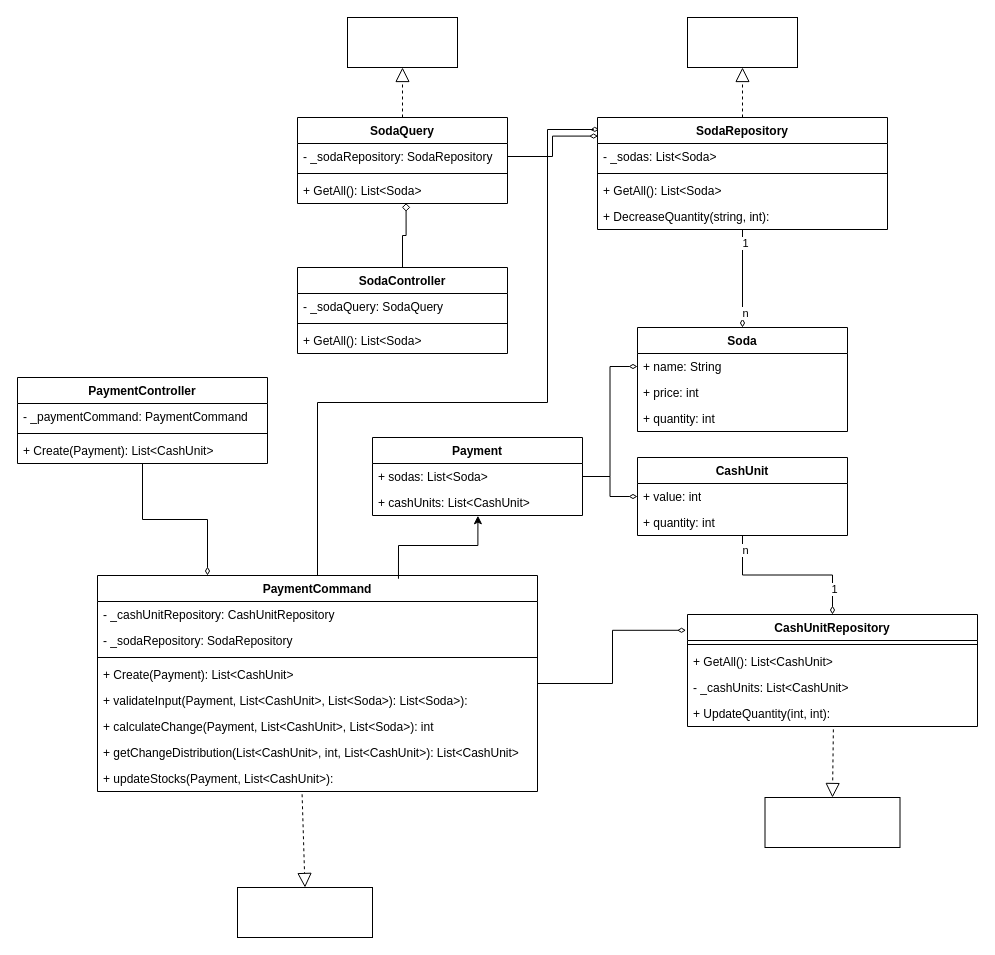
Image size: 995x955. Some labels were removed from this diagram. The shapes that lost their labels are listed below. From the top down, each one's centre as x and y in pixels, then its label:
At [402,42]: "«interface» ISodaQuery".
At [742,42]: "«interface» ISodaRepository".
At [832,822]: "«interface» ICashUnitRepository".
At [304,912]: "«interface» IPaymentCommand".
